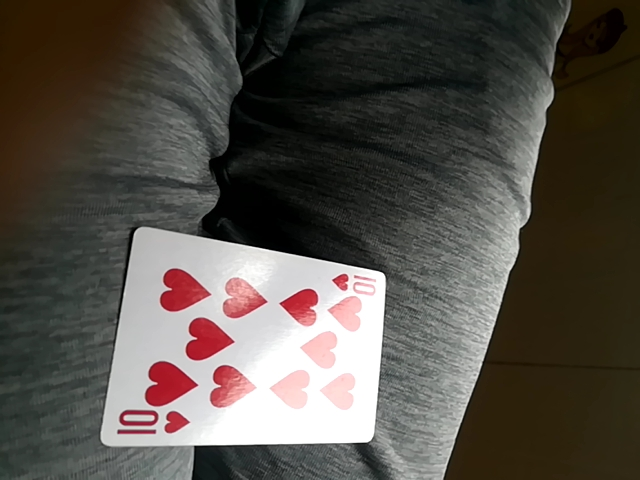hx 10: (102, 232, 389, 449)
